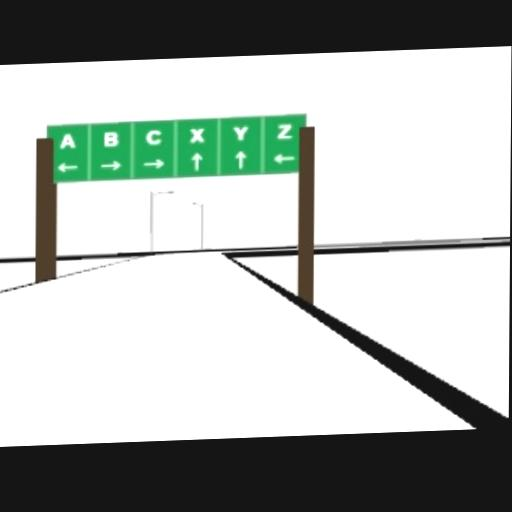A: (58, 133, 75, 148)
B: (103, 131, 118, 147)
C: (144, 129, 161, 145)
Left: (272, 153, 294, 164), (57, 161, 77, 172)
Right: (100, 159, 122, 170), (142, 158, 164, 169)
Straight: (234, 149, 246, 169), (190, 151, 202, 170)
X: (188, 128, 203, 143)
Y: (232, 124, 248, 140)
Z: (275, 123, 293, 138)
